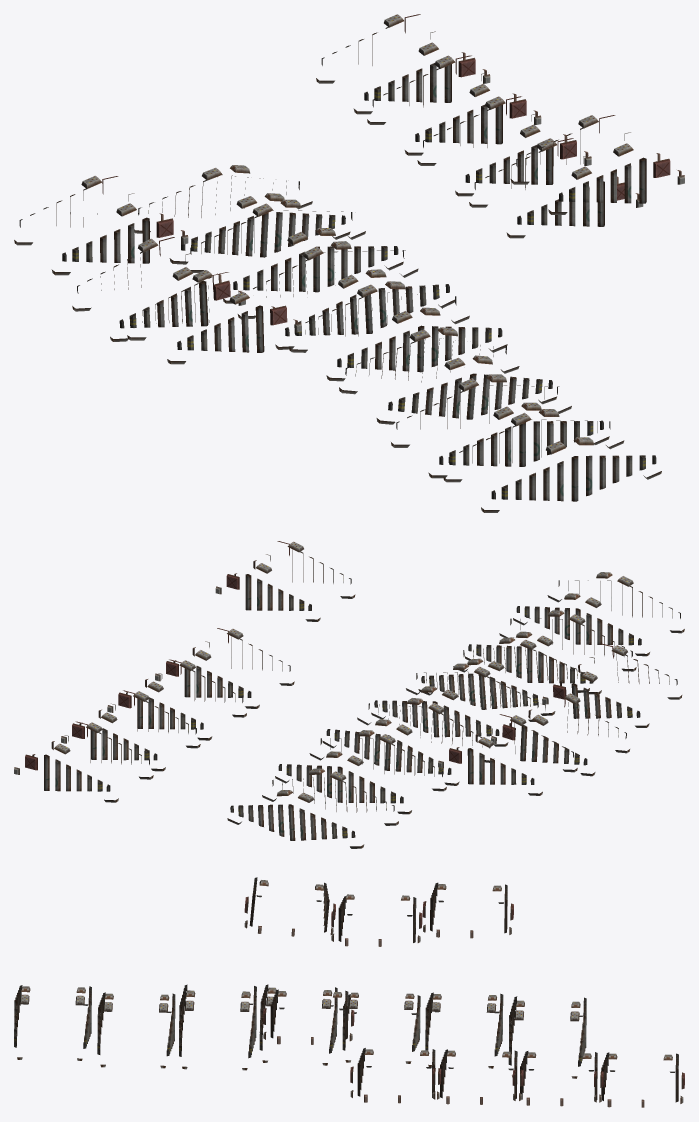
Rendered from prop_static_tan_container_01_10_0.glb.
3 views of the same model, one above another, from view 1: azimuth 30°, elevation 25°; view 2: azimuth 150°, elevation 25°; view 3: azimuth 270°, elevation 25° (orthographic). The views are drawn at different scales.
Parts seen in each view (by area): view 1: tan_container_01_10_LOD0; view 2: tan_container_01_10_LOD0; view 3: tan_container_01_10_LOD0.
Boxes of the visible parts, x1,y1,x2,y2 form: tan_container_01_10_LOD0: [14, 14, 684, 512]; tan_container_01_10_LOD0: [14, 541, 684, 848]; tan_container_01_10_LOD0: [14, 877, 684, 1107].
Size of what is drawn, in the model's own units: 12.36 by 3.75 by 17.52.
Materials: 1 (1 with a texture image).
